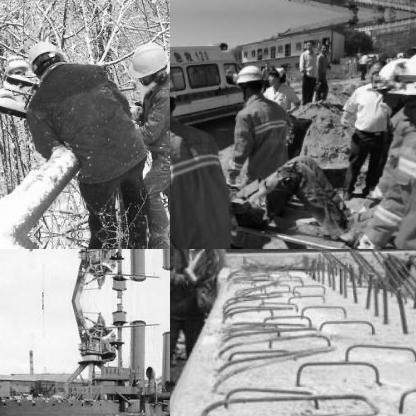Helmet: (123, 36, 169, 87), (389, 47, 415, 127), (372, 58, 412, 108), (23, 38, 67, 78), (234, 63, 264, 97)
